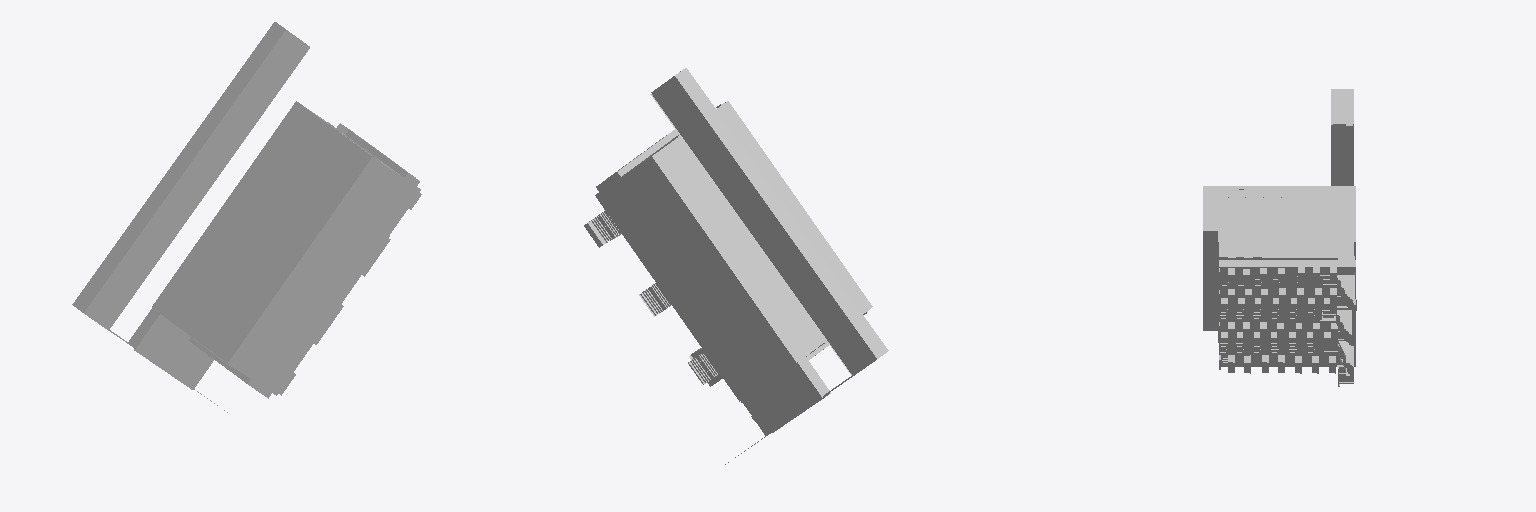
File: christian01.obj
3 views of the same model, side by side, from view 1: azimuth 30°, elevation 25°; view 2: azimuth 150°, elevation 25°; view 3: azimuth 270°, elevation 25° (orthographic).
Size of the model in its own units: 2010 by 2538 by 911.